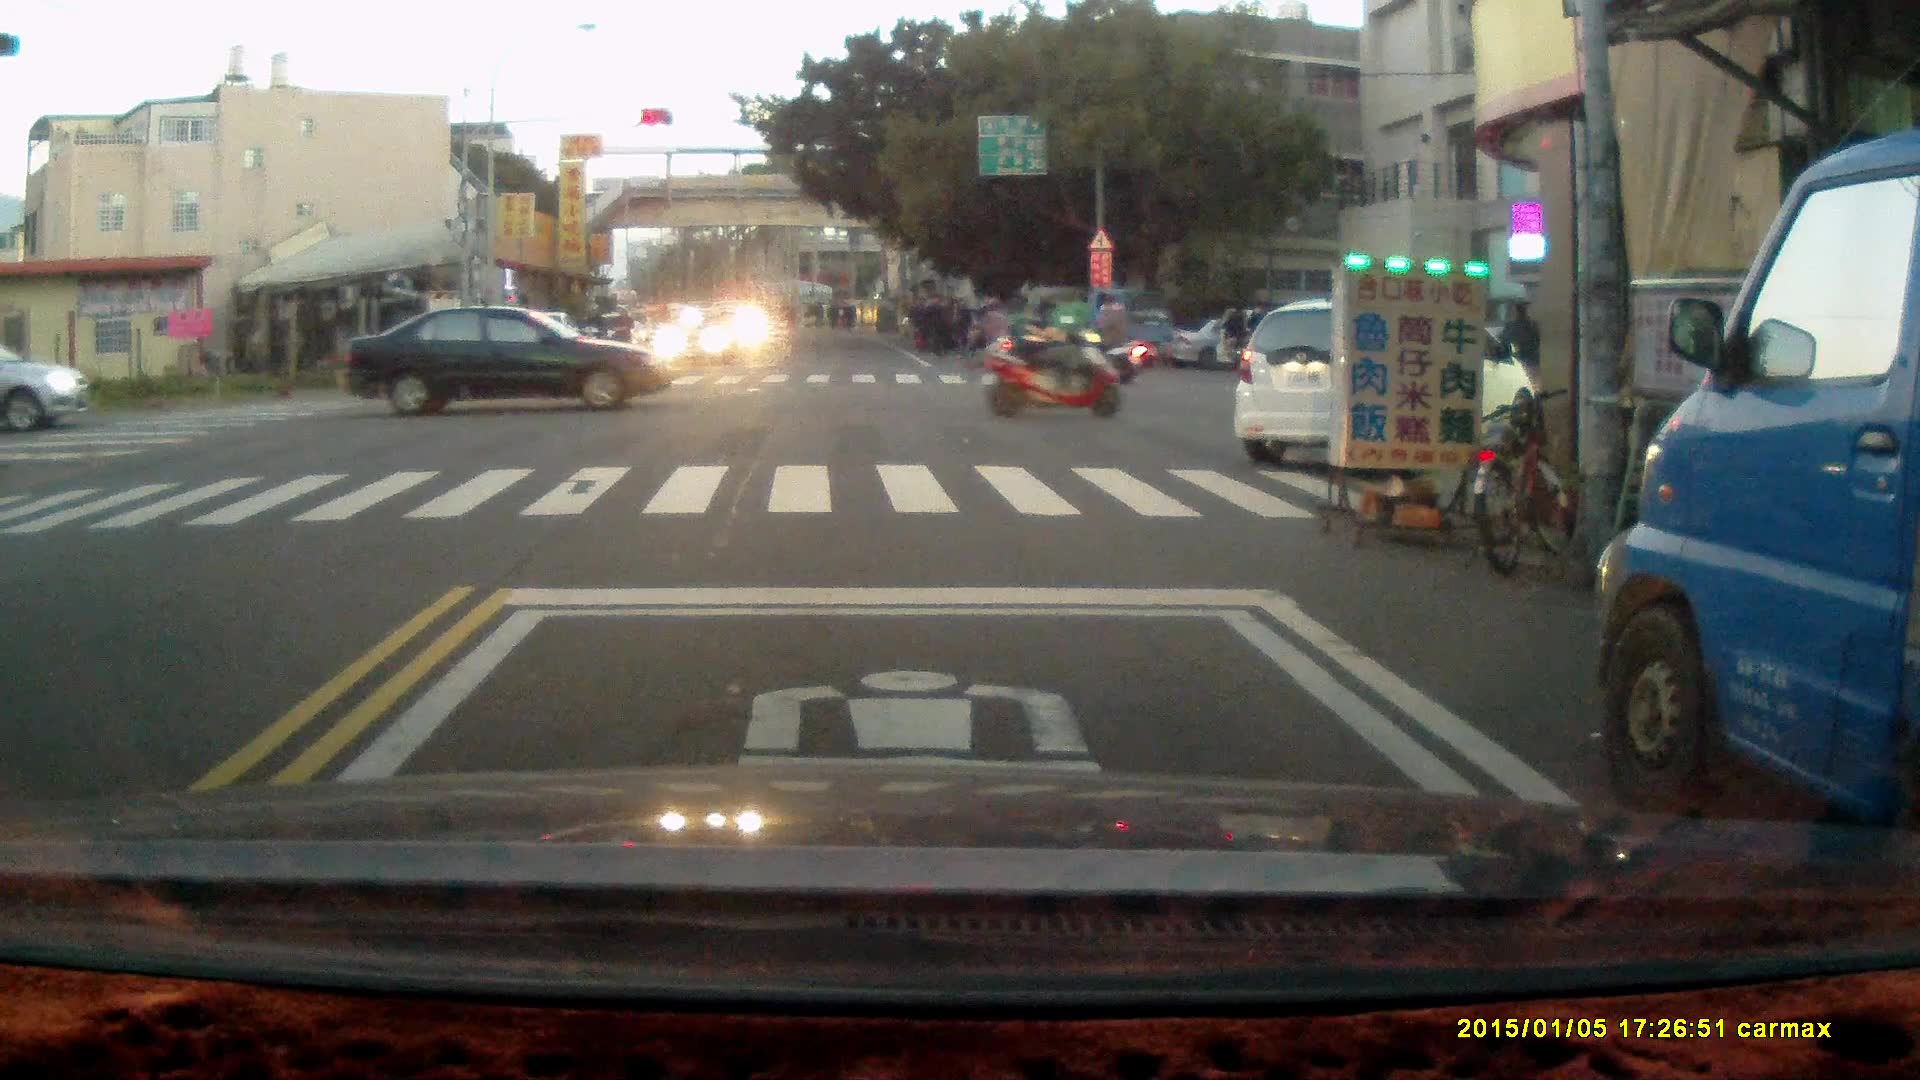pedestrian: (1499, 300, 1543, 385)
rider: (981, 283, 1121, 418), (1065, 302, 1146, 385), (960, 295, 1017, 374), (576, 300, 608, 366), (607, 303, 635, 366)
vehicle: (1598, 132, 1920, 842), (1233, 296, 1533, 459), (344, 306, 681, 412), (1002, 284, 1179, 367), (1, 344, 96, 437)
